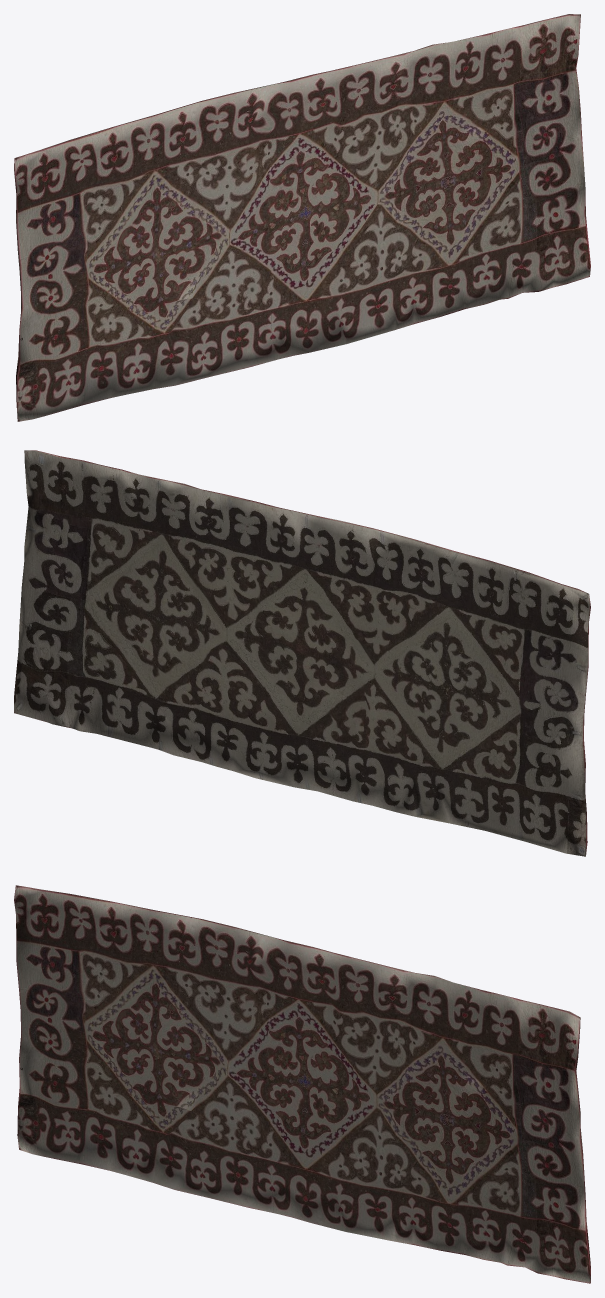
Rendered from syrmaq.glb.
3 views of the same model, one above another, from view 1: azimuth 30°, elevation 25°; view 2: azimuth 150°, elevation 25°; view 3: azimuth 330°, elevation 25° (orthographic).
Parts seen in each view (by area): view 1: LP_4029; view 2: LP_4029; view 3: LP_4029.
Boxes of the visible parts, x1,y1,x2,y2 form: LP_4029: (14, 14, 590, 421); LP_4029: (14, 450, 590, 856); LP_4029: (14, 885, 590, 1283).
Bounding box in the file's own units: 25.38 × 11.69 × 0.2957.
Materials: 1 (1 with a texture image).
